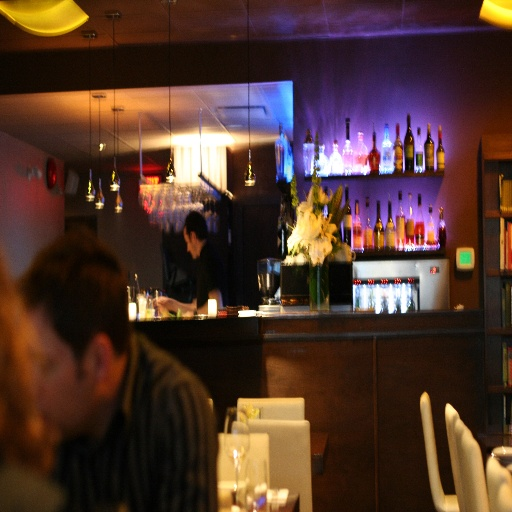hand: (155, 297, 171, 311), (181, 307, 194, 315)
